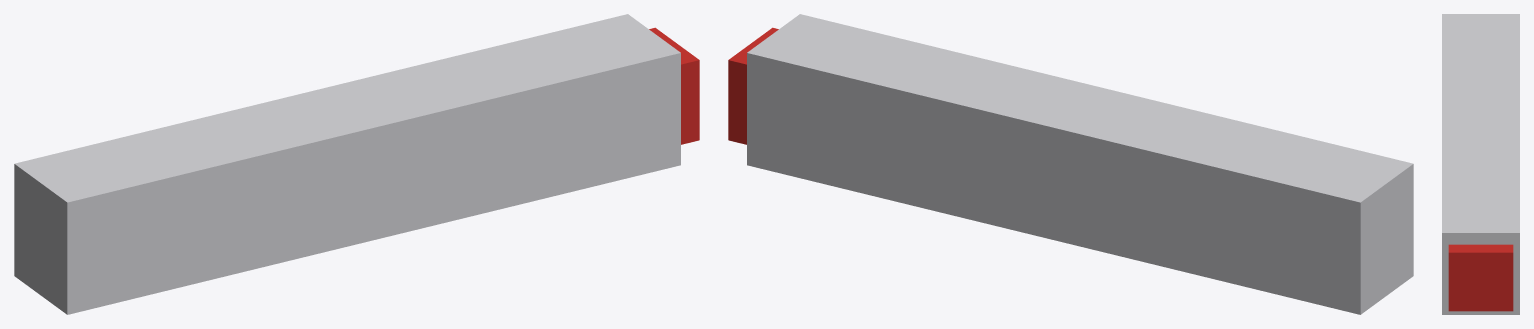
File: body.dae
3 renders of one model, left to right at view 1: azimuth 30°, elevation 25°; view 2: azimuth 150°, elevation 25°; view 3: azimuth 270°, elevation 25°, orthographic. The views are drawn at different scales.
Parts seen in each view (by area): view 1: fuselage, nose; view 2: fuselage, nose; view 3: fuselage, nose.
Part boxes in pixels (x1=…): fuselage: x1=14, y1=14, x2=680, y2=314; nose: x1=649, y1=27, x2=699, y2=144; fuselage: x1=747, y1=14, x2=1413, y2=314; nose: x1=728, y1=27, x2=778, y2=144; fuselage: x1=1442, y1=14, x2=1519, y2=314; nose: x1=1448, y1=244, x2=1513, y2=311.
Size of the model in its own units: 8.3 by 1.2 by 1.4.
